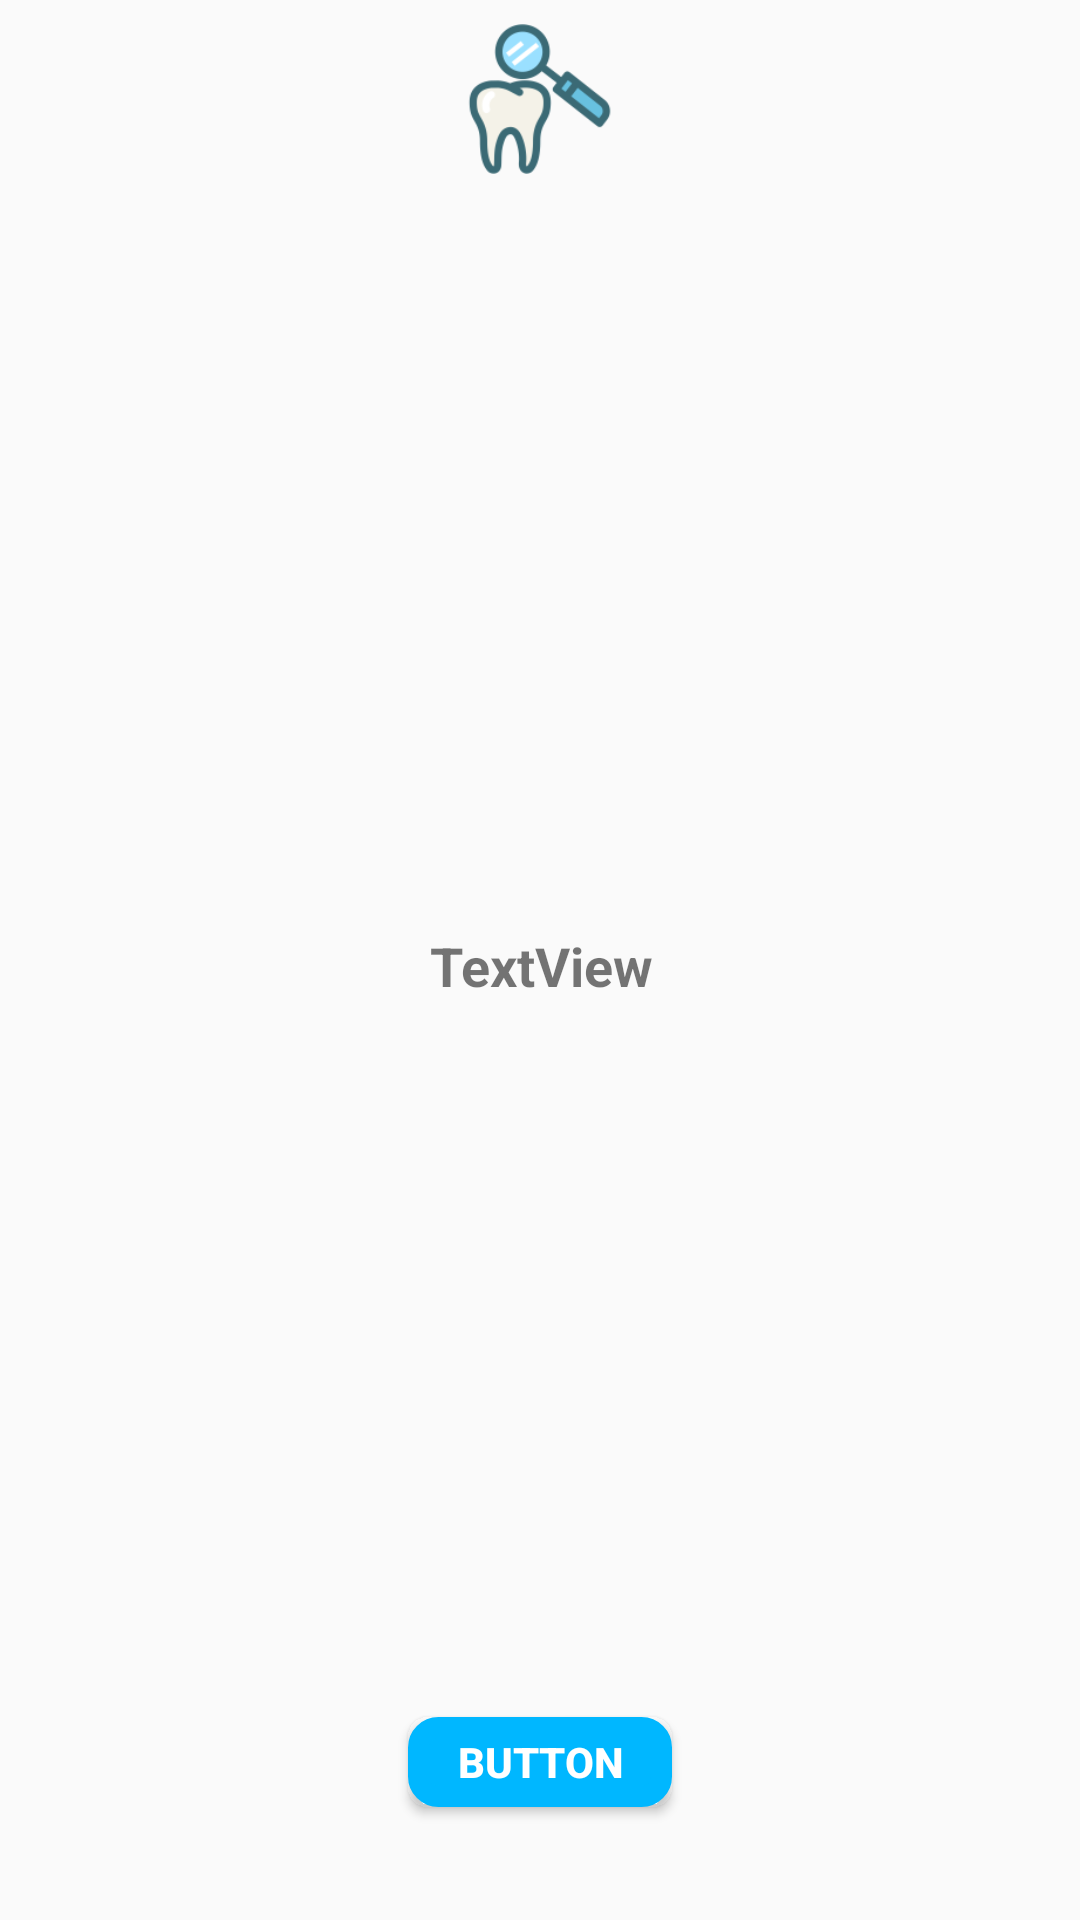

Screen size 1080×1920. Icon name, then its center in pixels as point (x, y):
doctor: point (540, 99)
